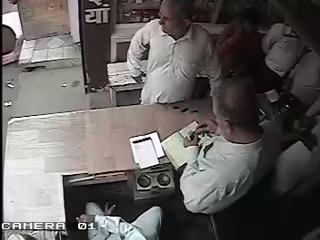Normal: (179, 77, 314, 240), (126, 0, 218, 106)
